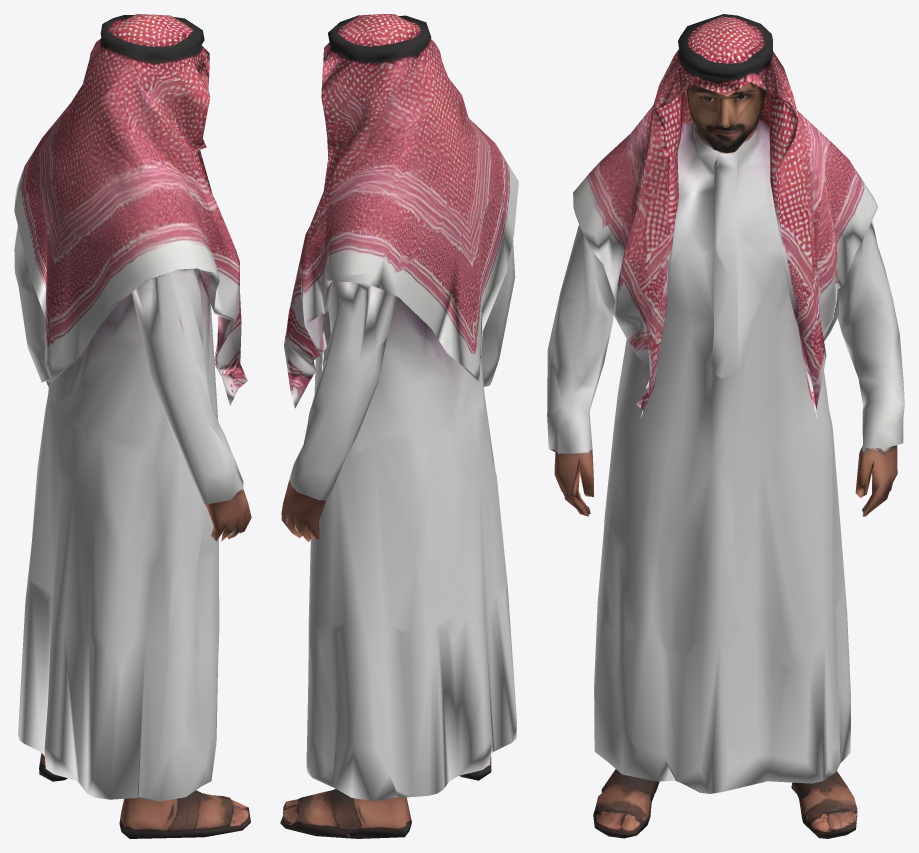
The model's file is person-thobe.glb.
3 renders of one model, left to right at view 1: azimuth 30°, elevation 25°; view 2: azimuth 150°, elevation 25°; view 3: azimuth 270°, elevation 25°, orthographic.
Visible parts, largest first — view 1: tripo_node_13c7b25e-003b-4816-8ad1-129acea94a48; view 2: tripo_node_13c7b25e-003b-4816-8ad1-129acea94a48; view 3: tripo_node_13c7b25e-003b-4816-8ad1-129acea94a48.
Boxes of the visible parts, bbox=[...] form: tripo_node_13c7b25e-003b-4816-8ad1-129acea94a48: bbox=[14, 14, 251, 838]; tripo_node_13c7b25e-003b-4816-8ad1-129acea94a48: bbox=[280, 14, 518, 838]; tripo_node_13c7b25e-003b-4816-8ad1-129acea94a48: bbox=[547, 14, 904, 838].
Size of the model in its own units: 0.2147 by 0.9989 by 0.4092.
Materials: 1 (1 with a texture image).
